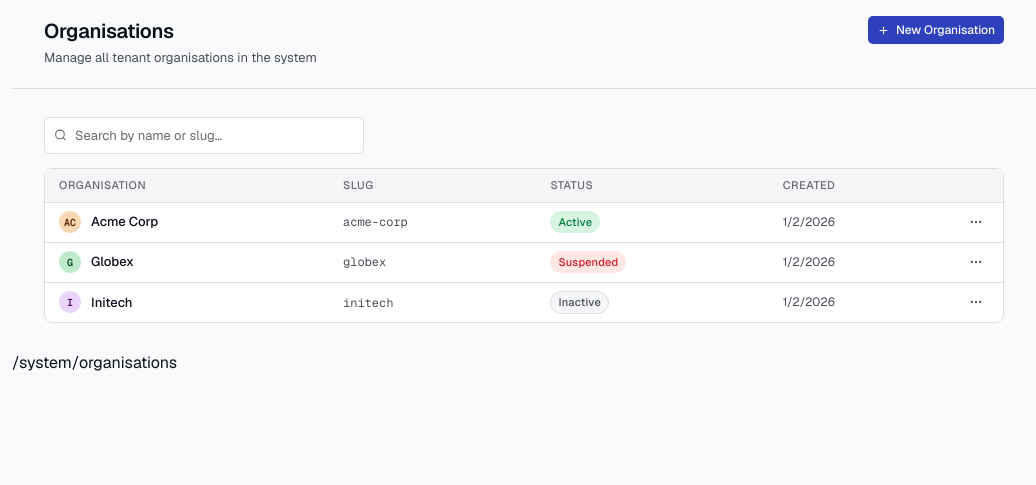
Test: the search box › says nothing matched
Expected: the text "Acme Corp" is shown, [91,212,158,232]
Type "zzz" into the field with placeholder "Search by name or slug…" at (204,135), box [44,116,364,154]
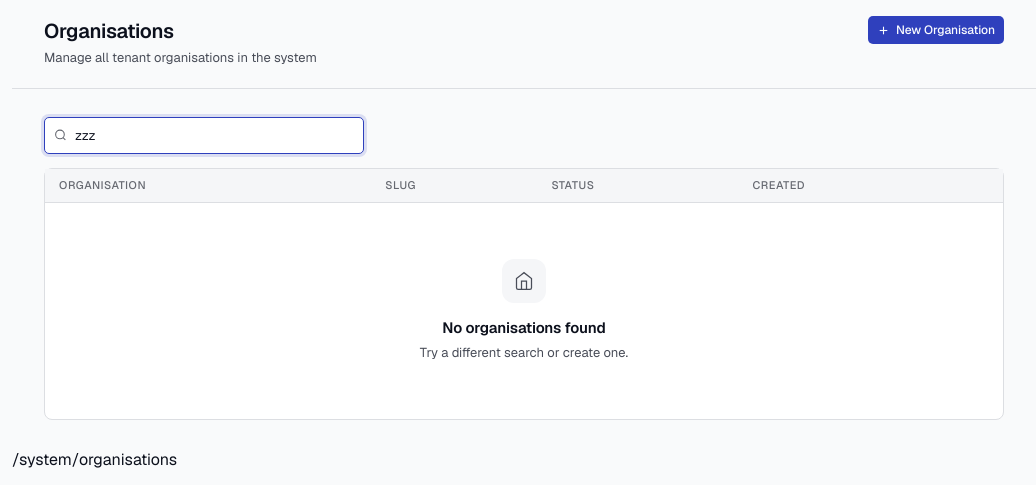
Now the text "No organisations found" is shown, box [442,318,606,336]
